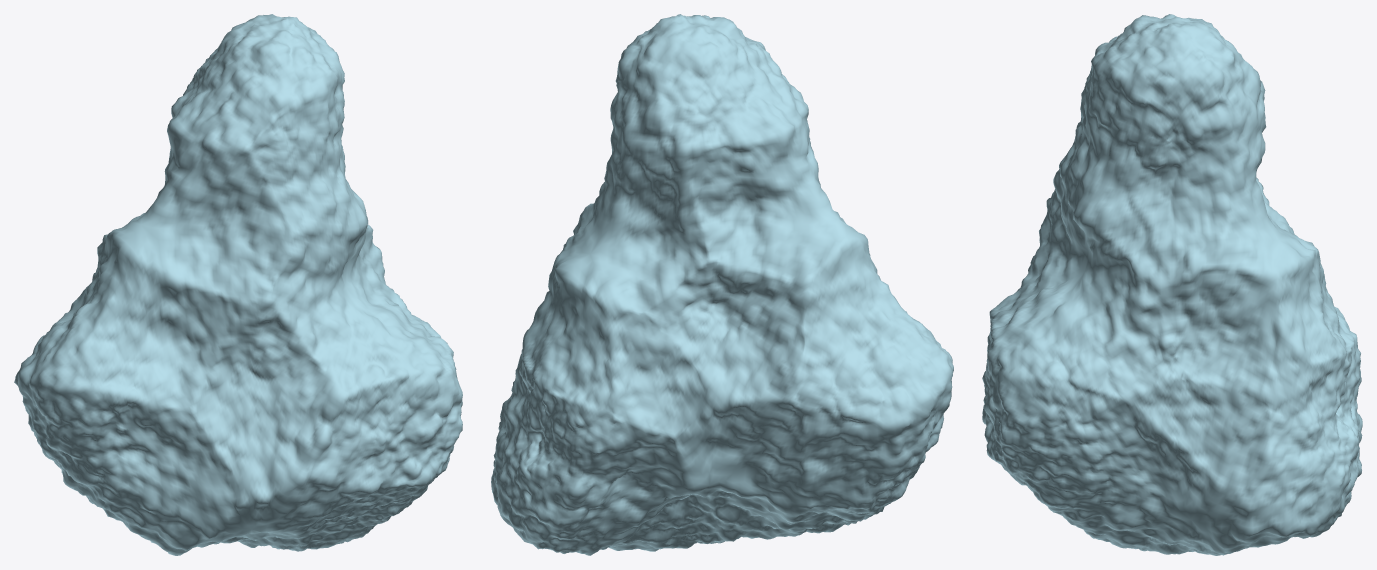
File: asteroide_2.glb
3 views of the same model, side by side, from view 1: azimuth 30°, elevation 25°; view 2: azimuth 150°, elevation 25°; view 3: azimuth 270°, elevation 25° (orthographic). The views are drawn at different scales.
Parts seen in each view (by area): view 1: rock; view 2: rock; view 3: rock.
Part boxes in pixels (<box>): rock: <box>14,14,462,555</box>; rock: <box>491,14,953,555</box>; rock: <box>982,14,1362,555</box>.
Bounding box in the file's own units: 12.24 × 15.55 × 10.42.
